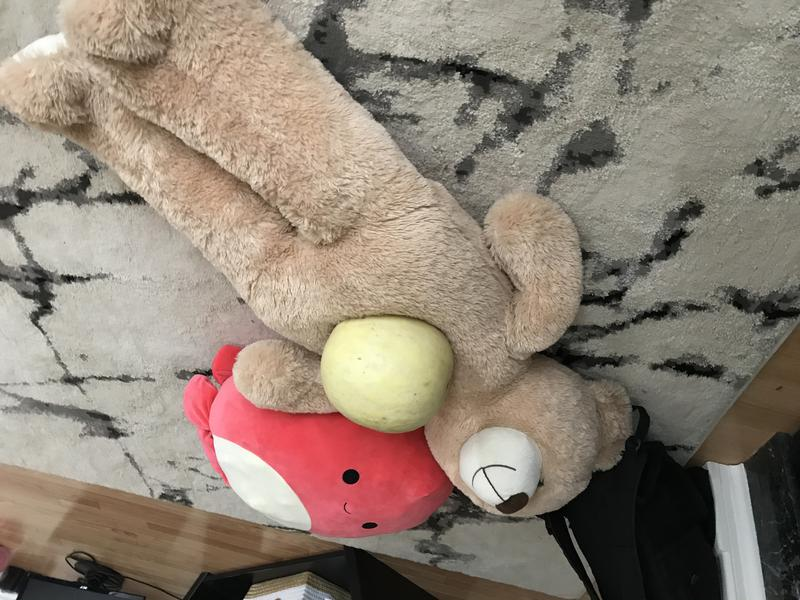honeydew: (314, 310, 461, 437)
